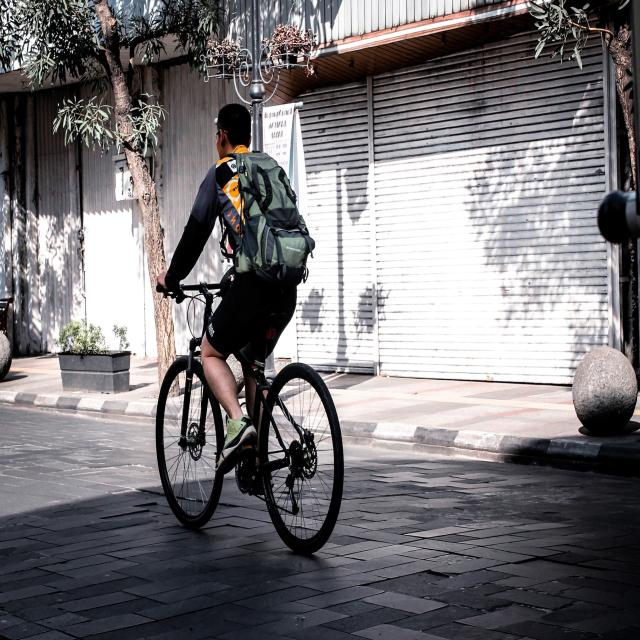adult: (156, 103, 297, 475)
